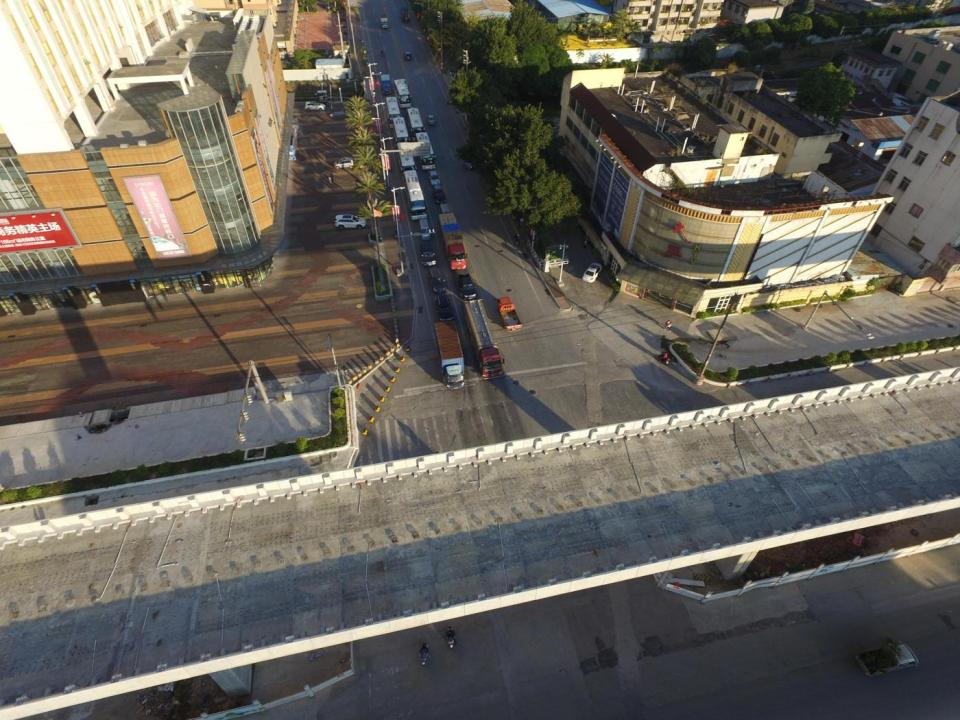bus: (404, 169, 427, 220), (415, 131, 437, 171), (396, 143, 417, 179), (406, 107, 426, 142), (394, 78, 413, 109), (386, 96, 403, 130), (392, 117, 410, 149)
car: (434, 293, 454, 321), (334, 214, 366, 231), (460, 276, 479, 300), (581, 262, 603, 282), (420, 242, 436, 268), (461, 155, 482, 170), (304, 100, 327, 112), (432, 185, 446, 204), (427, 168, 441, 186), (426, 113, 437, 126), (404, 50, 411, 61)
truck: (464, 300, 504, 381), (853, 639, 919, 679), (434, 321, 466, 391), (439, 212, 468, 271), (496, 296, 522, 333), (380, 74, 393, 96), (379, 14, 390, 30), (400, 6, 410, 22)
van: (427, 267, 446, 293), (332, 156, 356, 170), (419, 217, 433, 240), (439, 203, 450, 215)
